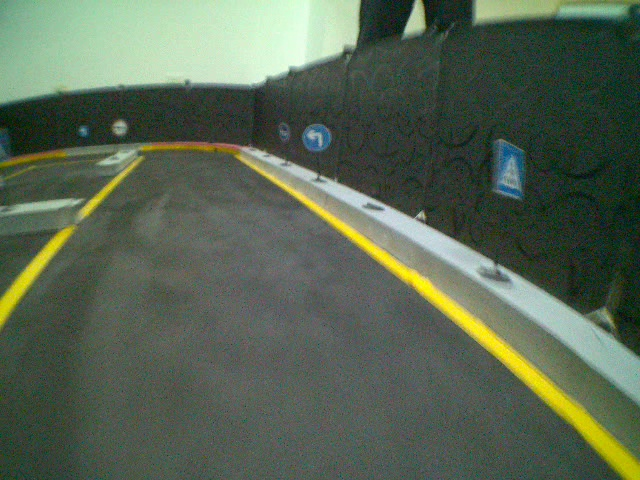crossing: (489, 138, 531, 202)
turn: (302, 121, 332, 153)
